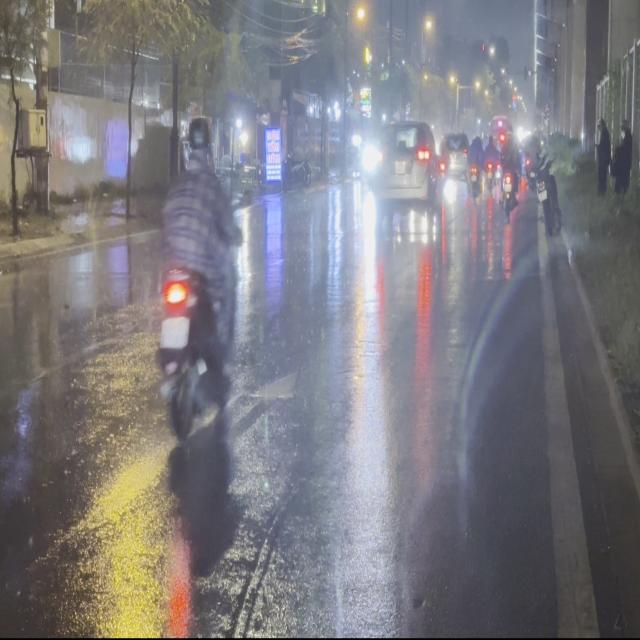helmet: (182, 114, 211, 170)
licenseplate: (151, 107, 241, 470)
nohelmet: (160, 316, 189, 348)
